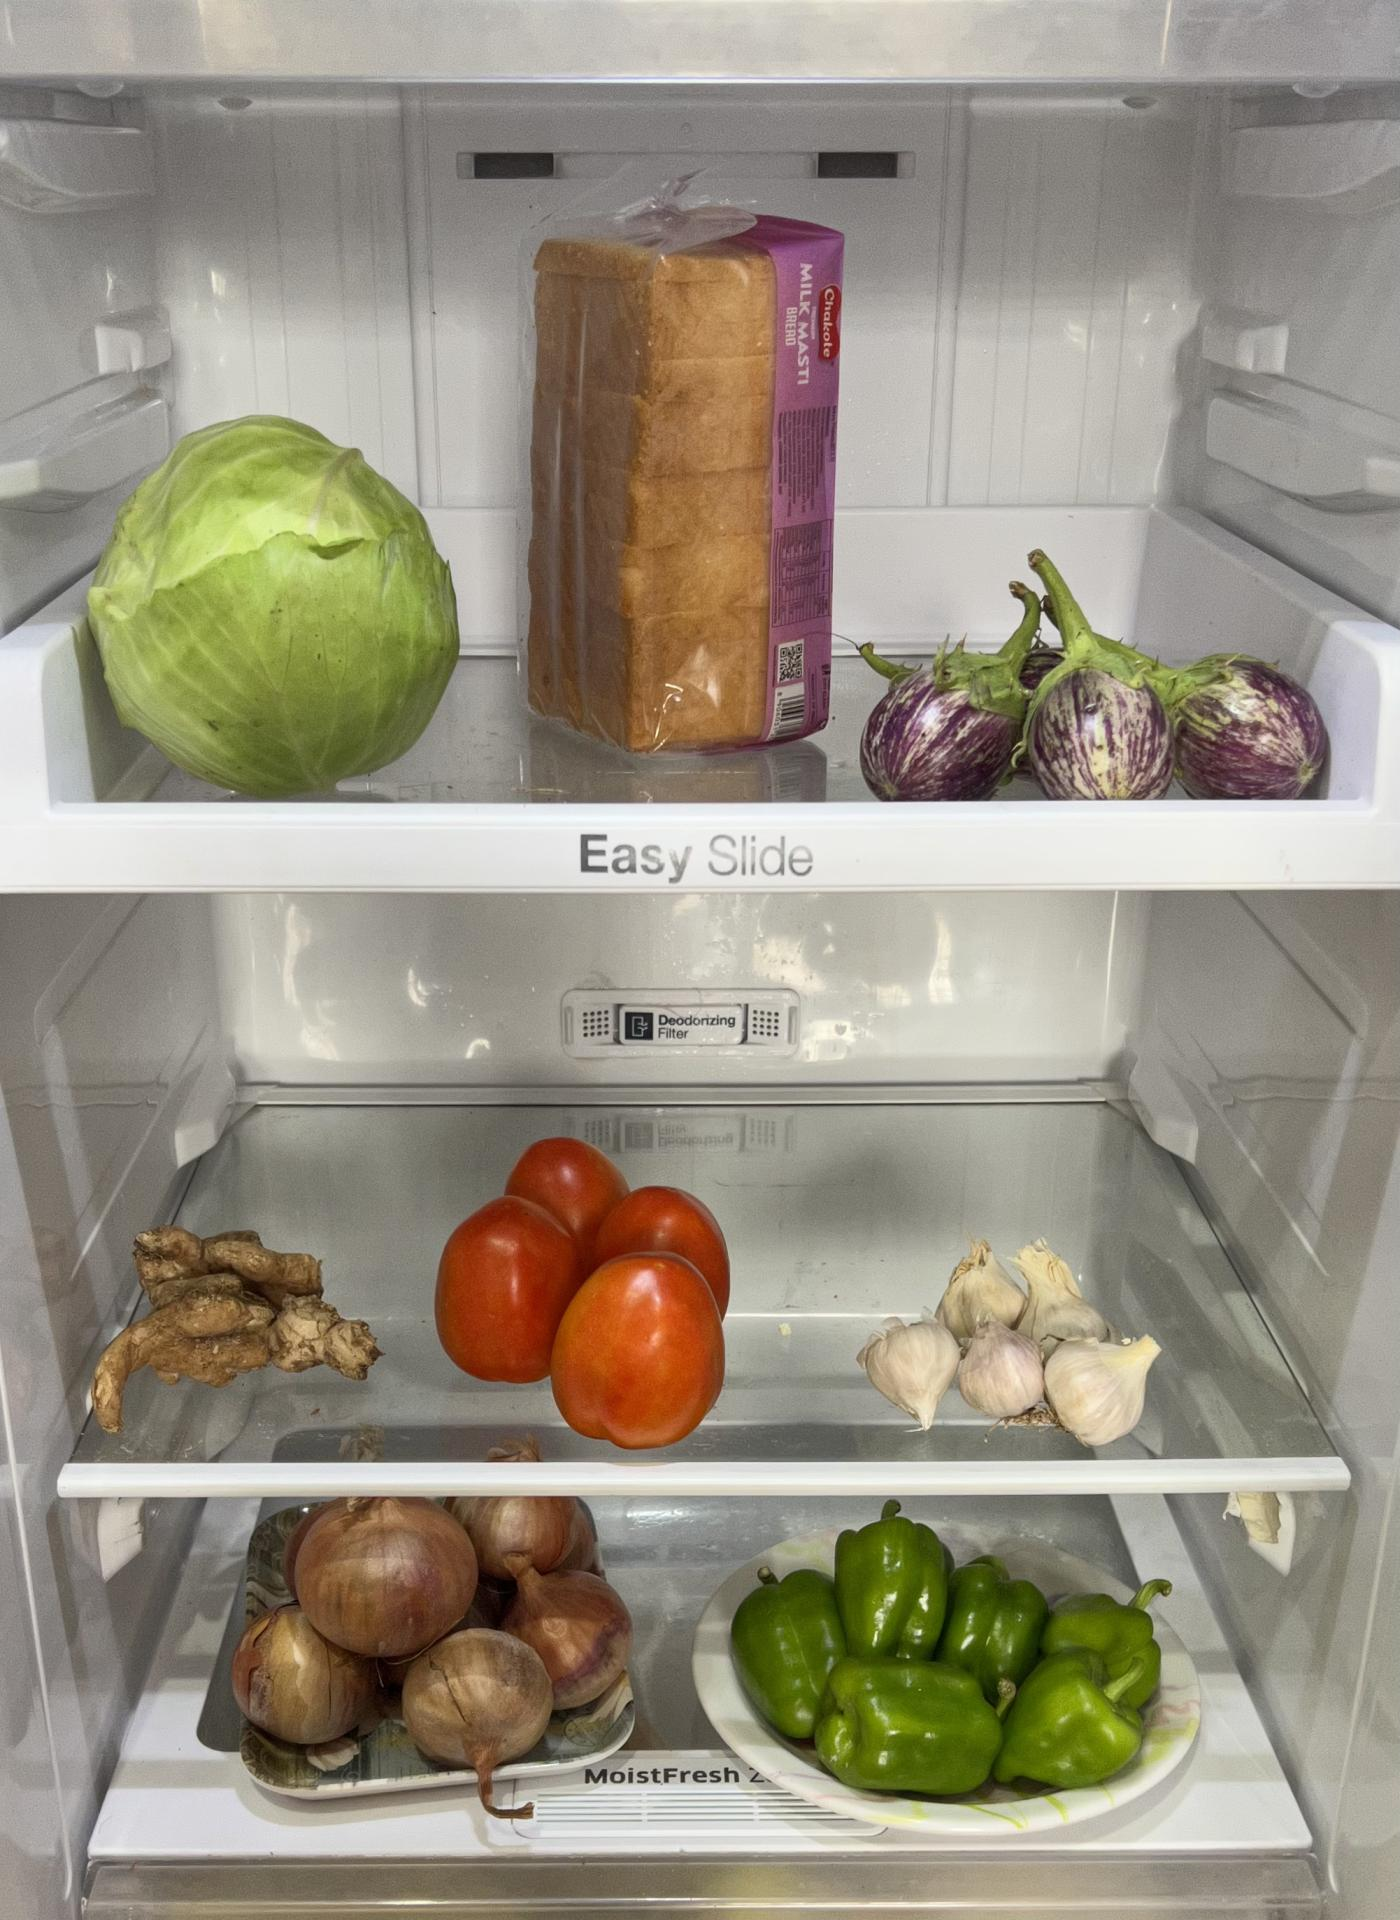bread: (504, 191, 848, 771)
cabbage: (85, 411, 455, 777)
capsicum: (725, 1525, 1179, 1802)
garlic: (857, 1237, 1151, 1443)
ginger: (88, 1219, 373, 1443)
onion: (228, 1494, 632, 1778)
tomato: (438, 1134, 731, 1443)
